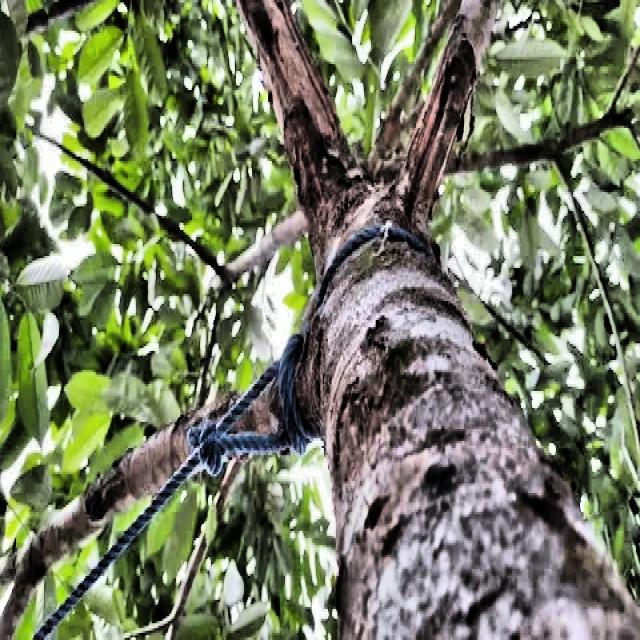arvore: (274, 85, 640, 639)
